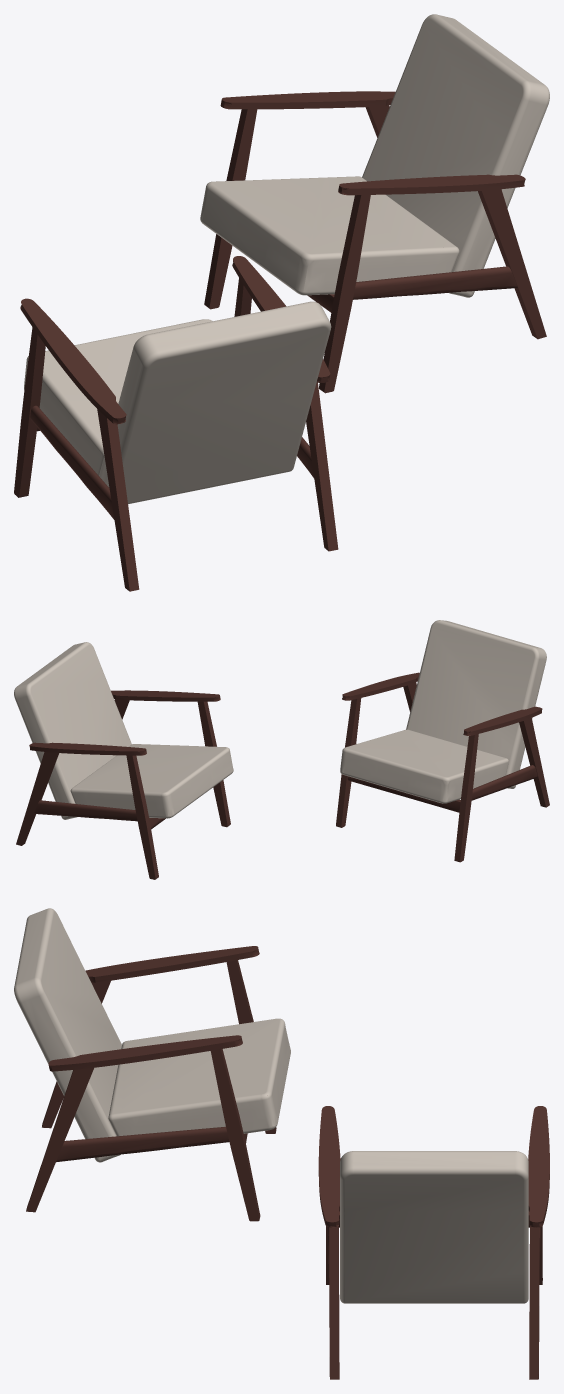
File: armchairs.glb
3 renders of one model, top to bottom at view 1: azimuth 30°, elevation 25°; view 2: azimuth 150°, elevation 25°; view 3: azimuth 270°, elevation 25°, orthographic. The views are drawn at different scales.
Bounding box in the file's own units: 1.93 × 0.7792 × 1.67.
